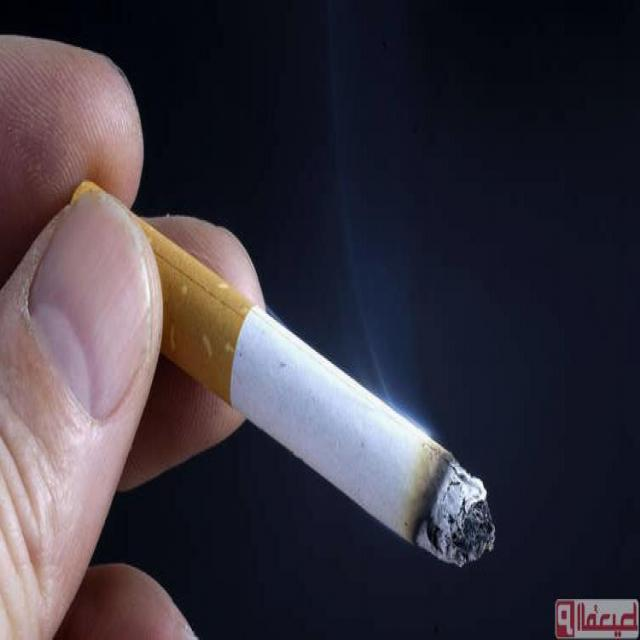smoke: (72, 176, 502, 570)
